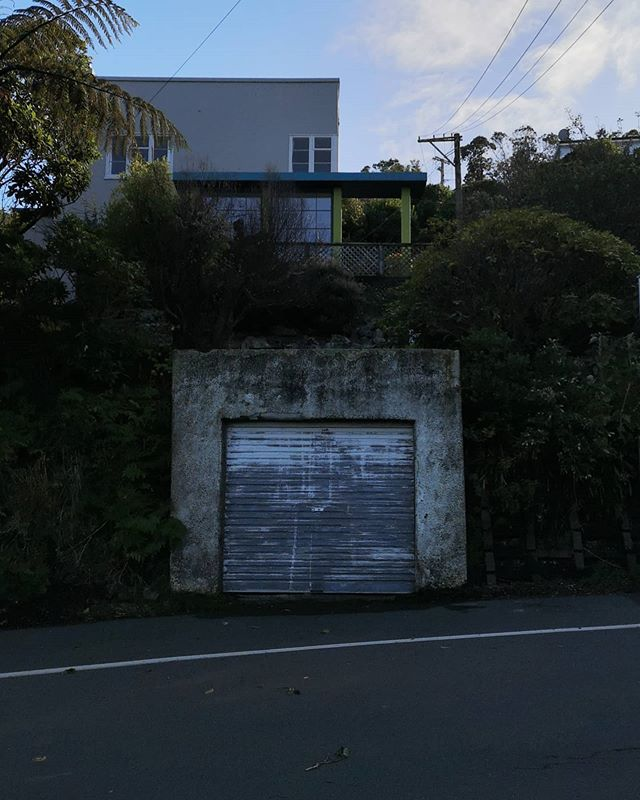building: (65, 75, 426, 278)
sky: (101, 1, 640, 126)
street: (6, 609, 640, 800)
vegetation: (443, 150, 640, 585)
